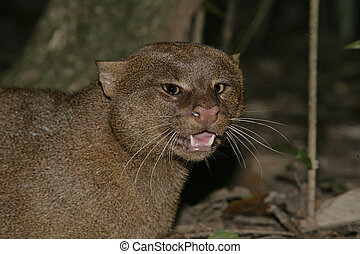Jaguarundi: (28, 37, 247, 222)
